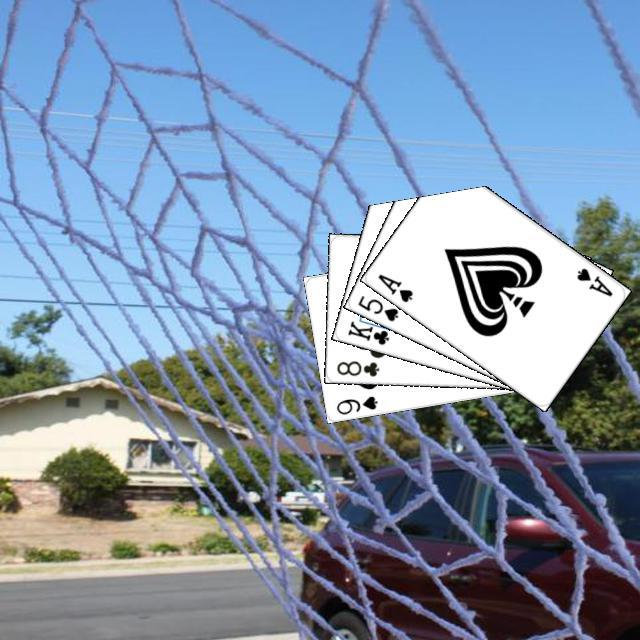5s: (353, 290, 400, 323)
8c: (332, 356, 381, 378)
9s: (331, 391, 379, 416)
As: (373, 269, 415, 304), (572, 263, 614, 298)
Kc: (343, 314, 398, 347)
